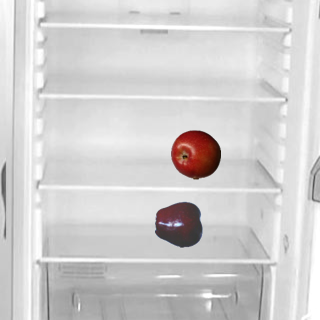Apple Braeburn: (170, 129, 220, 179)
Apple Red Delicious: (154, 199, 204, 249)
